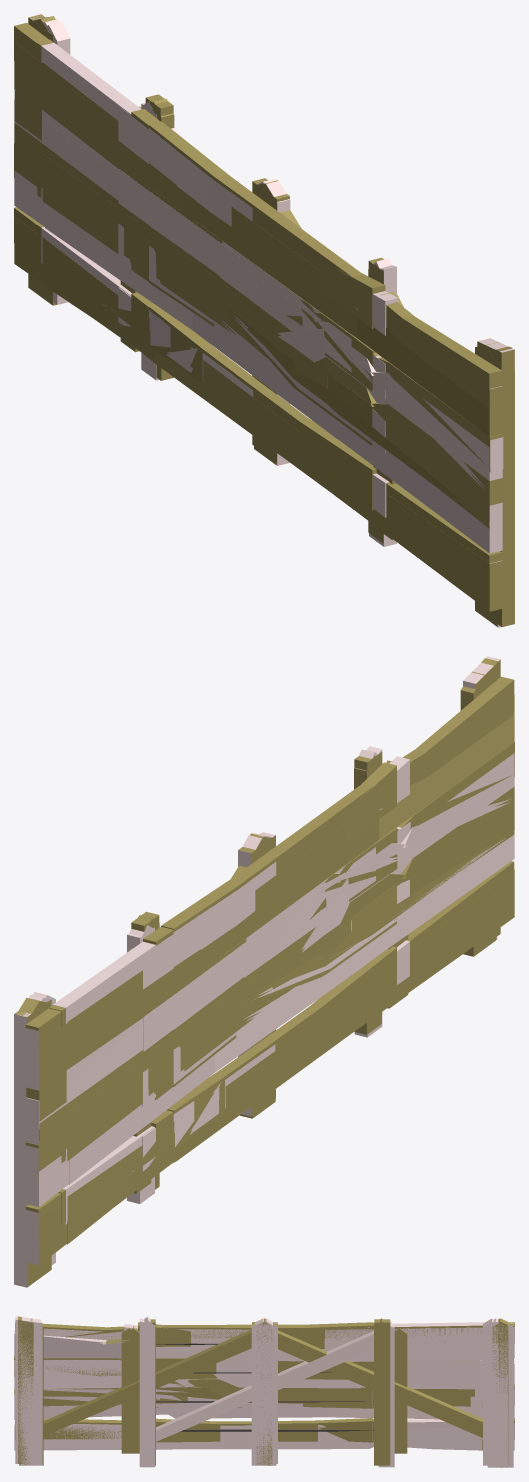
File: fence.fbx
The picture shows the model from 3 angles, top to bottom: view 1: azimuth 30°, elevation 25°; view 2: azimuth 150°, elevation 25°; view 3: azimuth 270°, elevation 25°; orthographic projection. The views are drawn at different scales.
Visible parts, largest first — view 1: FenceC-01, FenceC-02, FenceD-01, FenceE-01, FenceB-01, FenceJ-01, FenceE-02, FenceK-02, FenceF-02, FenceK-01, FenceI-01, FenceJ-02 (+7 smaller); view 2: FenceC-01, FenceC-02, FenceD-01, FenceE-01, FenceB-01, FenceJ-01, FenceE-02, FenceJ-02, FenceF-02, FenceK-01, FenceI-01, FenceM-01 (+7 smaller); view 3: FenceM-01, FenceL-01, FenceG-01, FenceJ-01, FenceM-02, FenceE-01, FenceD-01, FenceB-01, FenceA-01, FenceH-01, FenceI-02, FenceA-02 (+6 smaller).
Part boxes in pixels (bbox=[...]): FenceC-01: bbox=[14, 14, 514, 626]; FenceC-02: bbox=[42, 62, 308, 359]; FenceD-01: bbox=[14, 23, 511, 563]; FenceE-01: bbox=[14, 15, 514, 563]; FenceB-01: bbox=[131, 94, 385, 534]; FenceJ-01: bbox=[118, 102, 398, 544]; FenceE-02: bbox=[45, 65, 302, 330]; FenceK-02: bbox=[149, 131, 260, 348]; FenceF-02: bbox=[41, 43, 325, 316]; FenceK-01: bbox=[118, 101, 396, 546]; FenceI-01: bbox=[14, 16, 502, 626]; FenceJ-02: bbox=[149, 128, 260, 344]; FenceC-01: bbox=[14, 659, 514, 1287]; FenceC-02: bbox=[67, 929, 332, 1240]; FenceD-01: bbox=[25, 658, 514, 1241]; FenceE-01: bbox=[14, 656, 514, 1287]; FenceB-01: bbox=[131, 752, 397, 1141]; FenceJ-01: bbox=[127, 746, 410, 1201]; FenceE-02: bbox=[69, 891, 325, 1194]; FenceJ-02: bbox=[173, 890, 284, 1143]; FenceF-02: bbox=[53, 863, 348, 1221]; FenceK-01: bbox=[127, 749, 410, 1203]; FenceI-01: bbox=[18, 671, 514, 1264]; FenceM-01: bbox=[26, 672, 514, 1265]; FenceM-01: bbox=[14, 1318, 514, 1465]; FenceL-01: bbox=[14, 1318, 514, 1465]; FenceG-01: bbox=[14, 1318, 508, 1465]; FenceJ-01: bbox=[124, 1318, 394, 1465]; FenceM-02: bbox=[213, 1365, 482, 1450]; FenceE-01: bbox=[14, 1316, 514, 1467]; FenceD-01: bbox=[14, 1316, 514, 1467]; FenceB-01: bbox=[138, 1319, 391, 1464]; FenceA-01: bbox=[121, 1328, 407, 1453]; FenceH-01: bbox=[138, 1318, 389, 1465]; FenceI-02: bbox=[188, 1381, 482, 1450]; FenceA-02: bbox=[125, 1326, 373, 1453].
Bounding box in the file's own units: 18.58 × 163 × 501.
